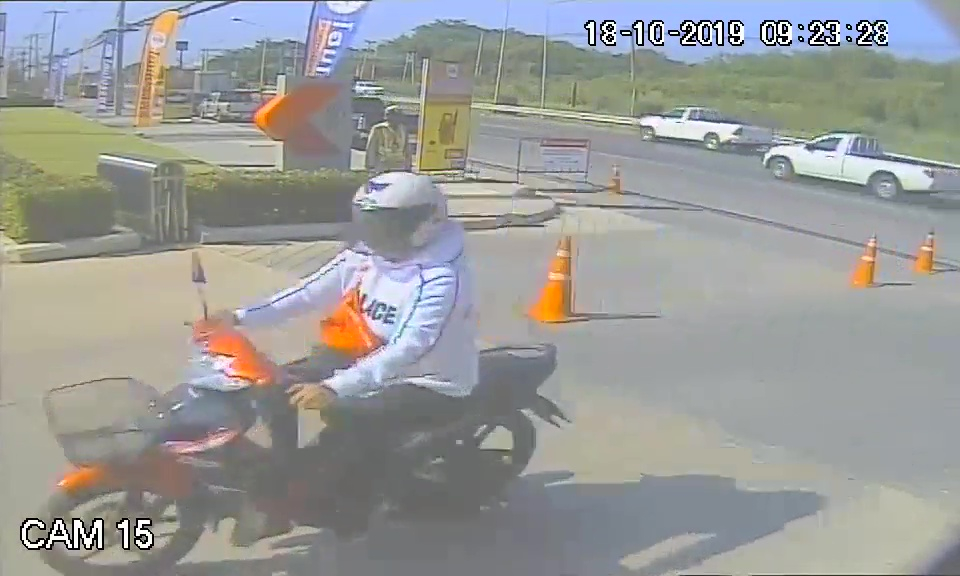motorcycle: (27, 313, 565, 567)
